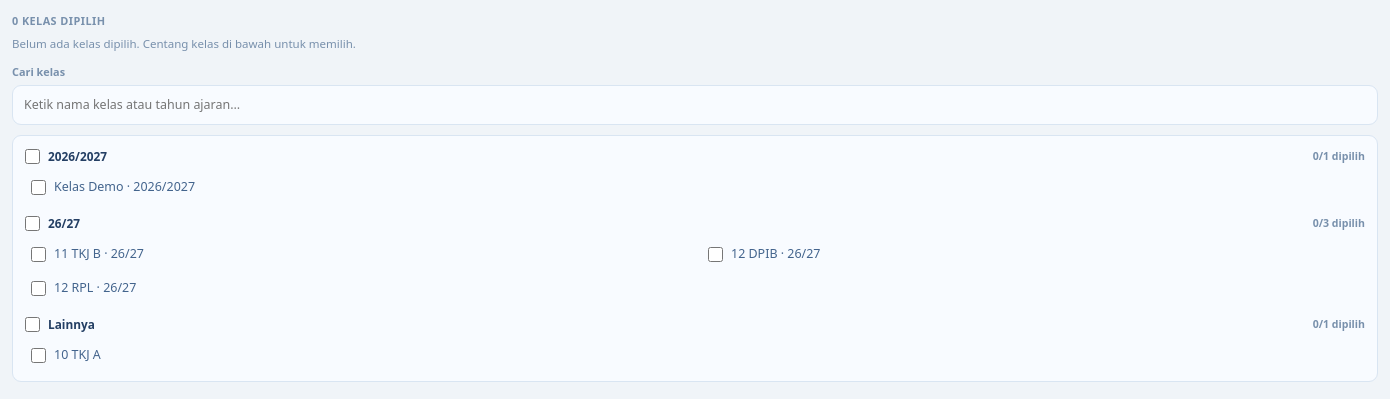
Test: ClassPicker › filters rows by the search query and reports no matches
The image size is (1390, 399).
Type "tkj" into the search field with class "class-picker-search-input" at (695, 105), box [12,86,1378,125]
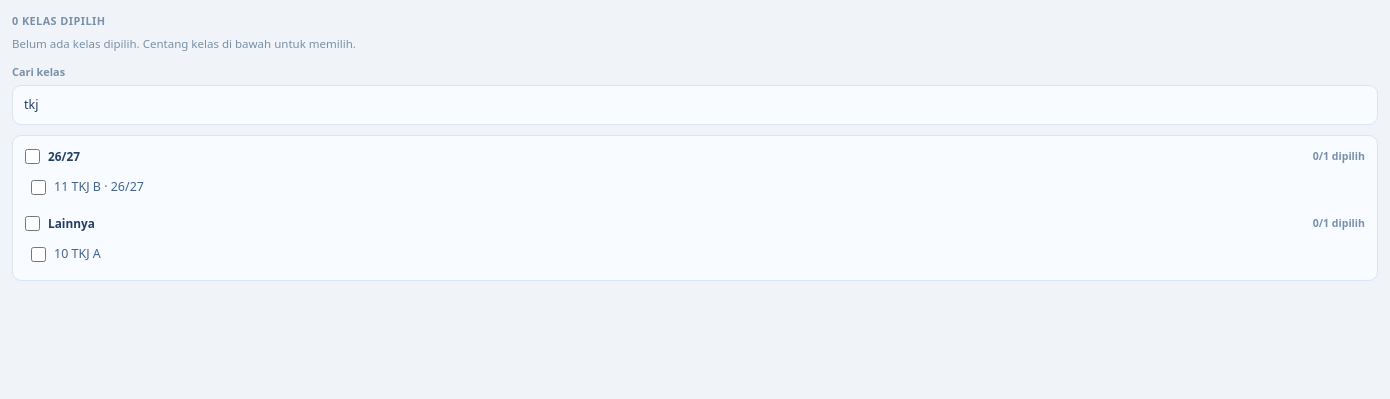
Replace the text in the search field with class "class-picker-search-input" with "tidak-ada" at (695, 105), box [12,86,1378,125]
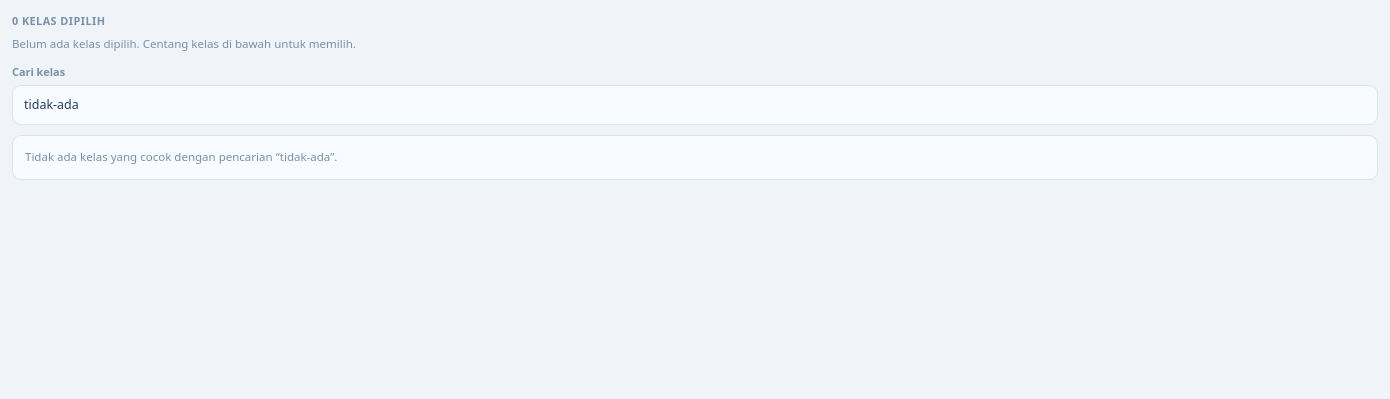
Expected: no labels with class "class-picker-option" are shown
Expected: the text "Tidak ada kelas yang cocok" is shown, [25,149,337,164]
